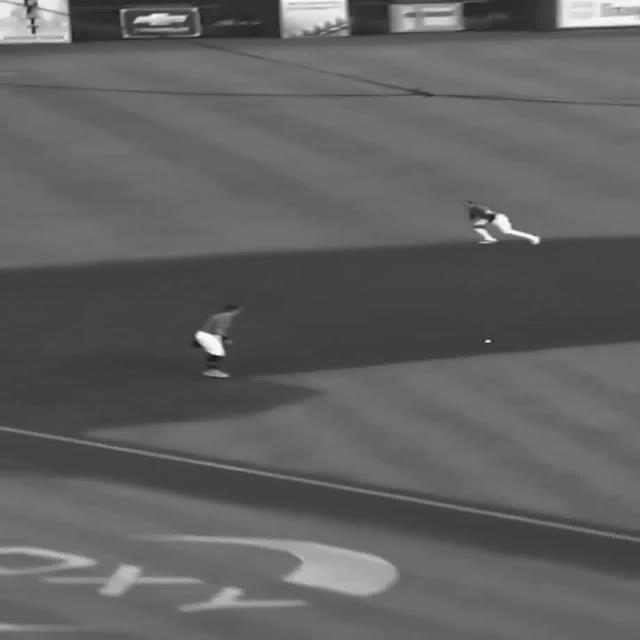baseball: (483, 338, 492, 344)
shoe: (203, 369, 229, 378), (478, 239, 498, 244), (528, 236, 540, 244)
